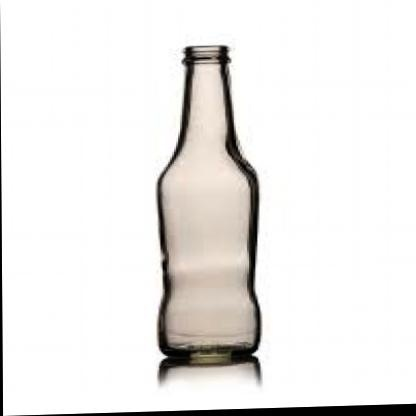trash: (158, 46, 259, 355)
